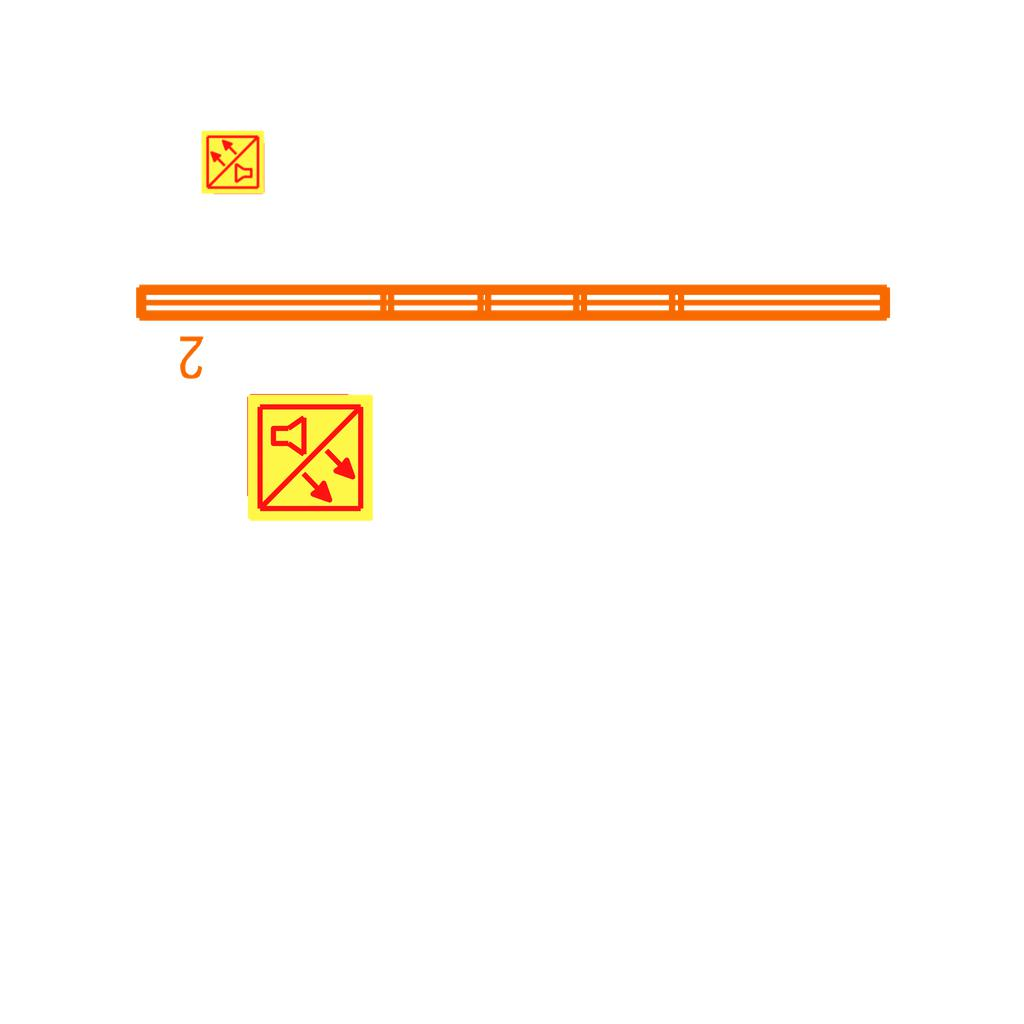Ambulanz_Pendelleuchte_LED: (127, 272, 901, 384)
OKW_Multisensormelder_(Kombination_optischer_Rauch-Kahlenmonoxid_Waerme-Melder): (244, 392, 376, 524), (200, 129, 266, 195)
